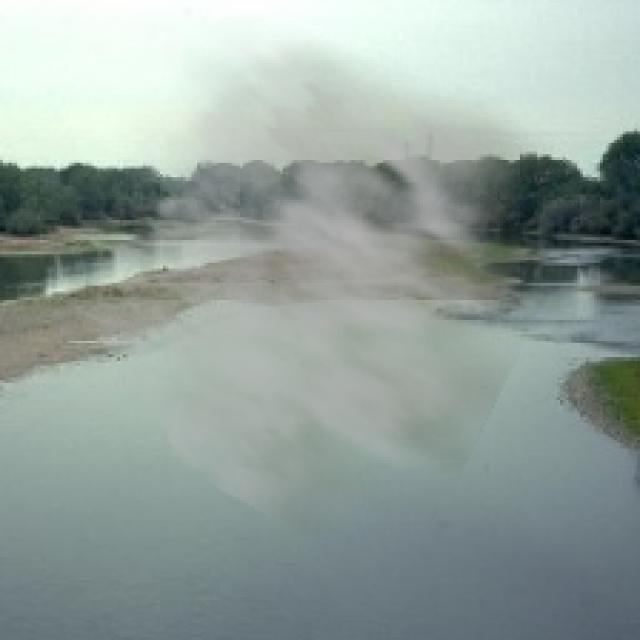Smoke: (69, 17, 600, 546)
